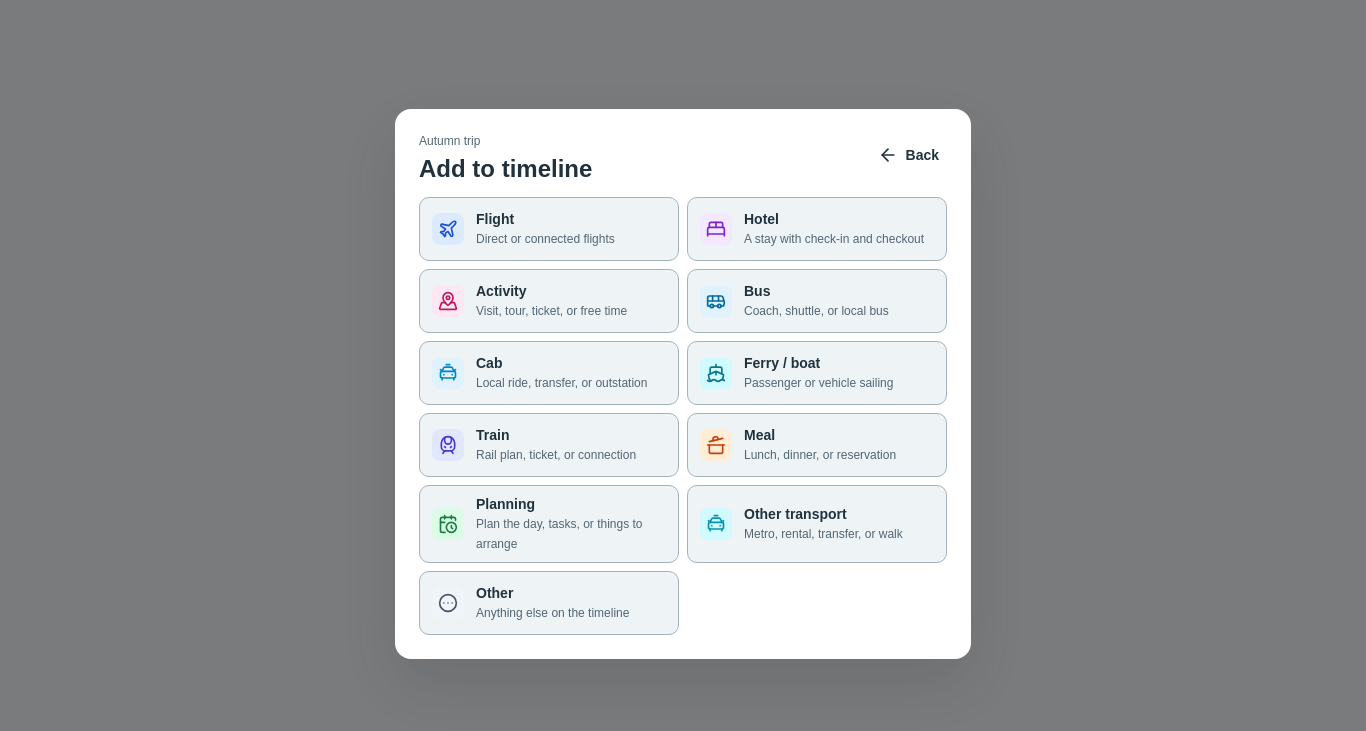
Test: event form architecture › keeps hotel times optional, validates checkout, and saves both milestone time flags
The width and height of the screenshot is (1366, 731).
Click the button "Hotel A stay with check-in and checkout" at (817, 229), box [687, 197, 947, 261]
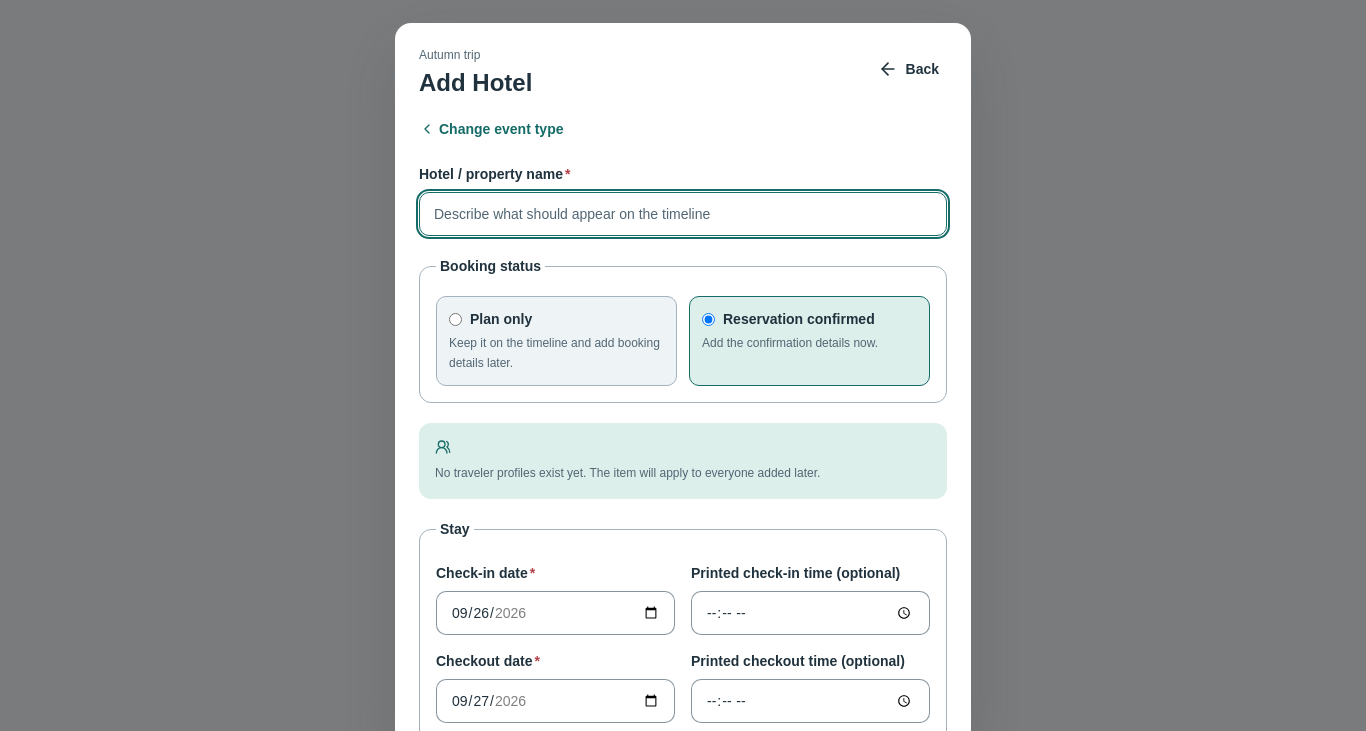
Expected: the date field labelled "Check-in date" holds "2026-09-26", [436, 591, 675, 635]
Expected: the date field labelled "Checkout date" holds "2026-09-27", [436, 679, 675, 723]
Expected: the time field labelled "Printed check-in time (optional)" is empty, [691, 591, 930, 635]
Type "Marina hotel" into the field labelled "Hotel / property name" at (683, 214), box [419, 192, 947, 236]
Type "2026-09-26" into the date field labelled "Checkout date" at (556, 701), box [436, 679, 675, 723]
(page scrolled)
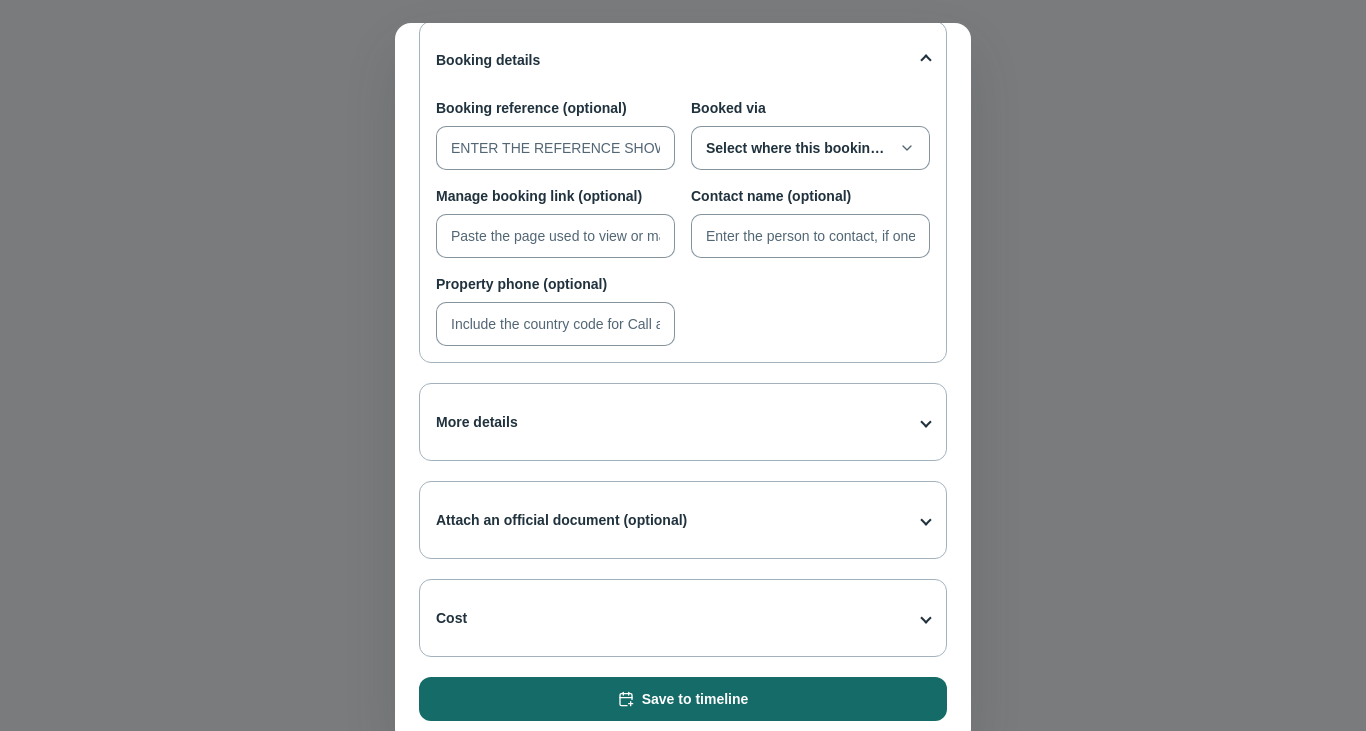
Click the button "Save to timeline" at (683, 699), box [419, 677, 947, 721]
(page scrolled)
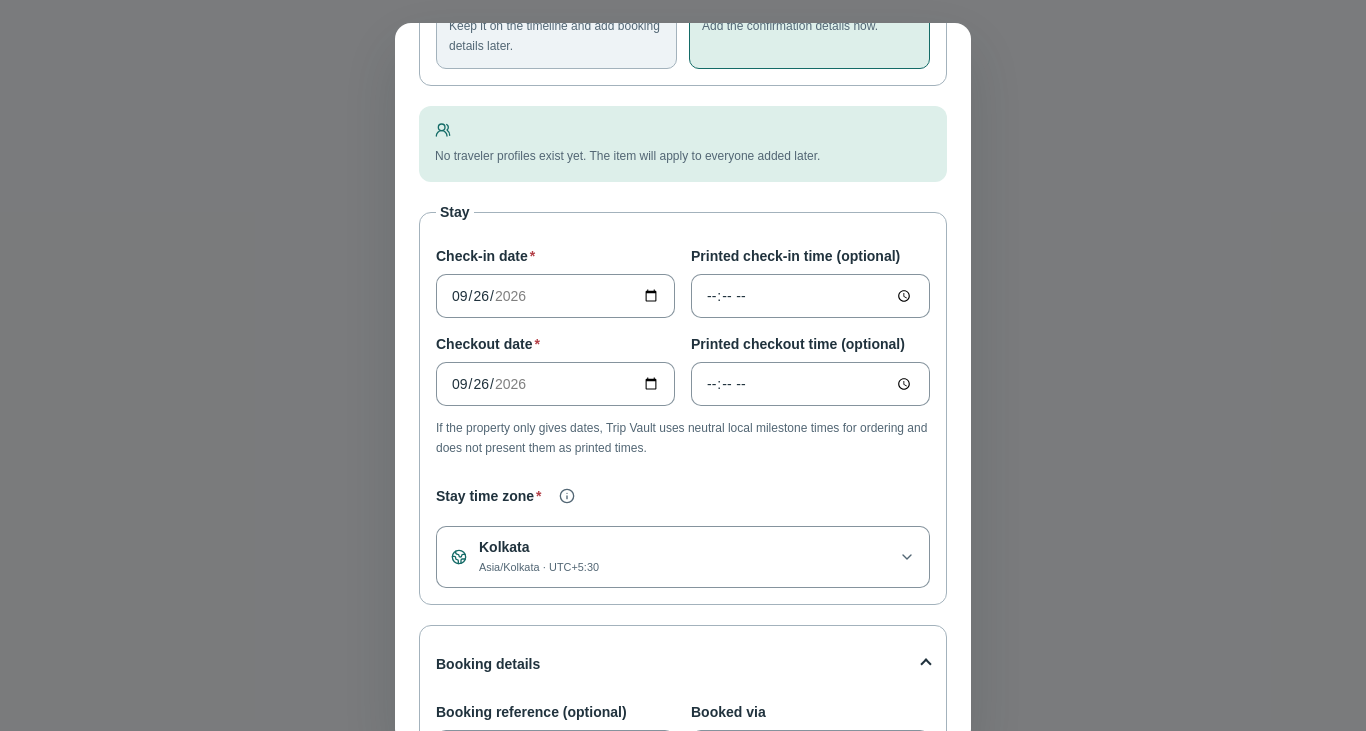
Type "2026-09-27" into the date field labelled "Checkout date" at (556, 384), box [436, 362, 675, 406]
Type "15:00" into the time field labelled "Printed check-in time (optional)" at (810, 296), box [691, 274, 930, 318]
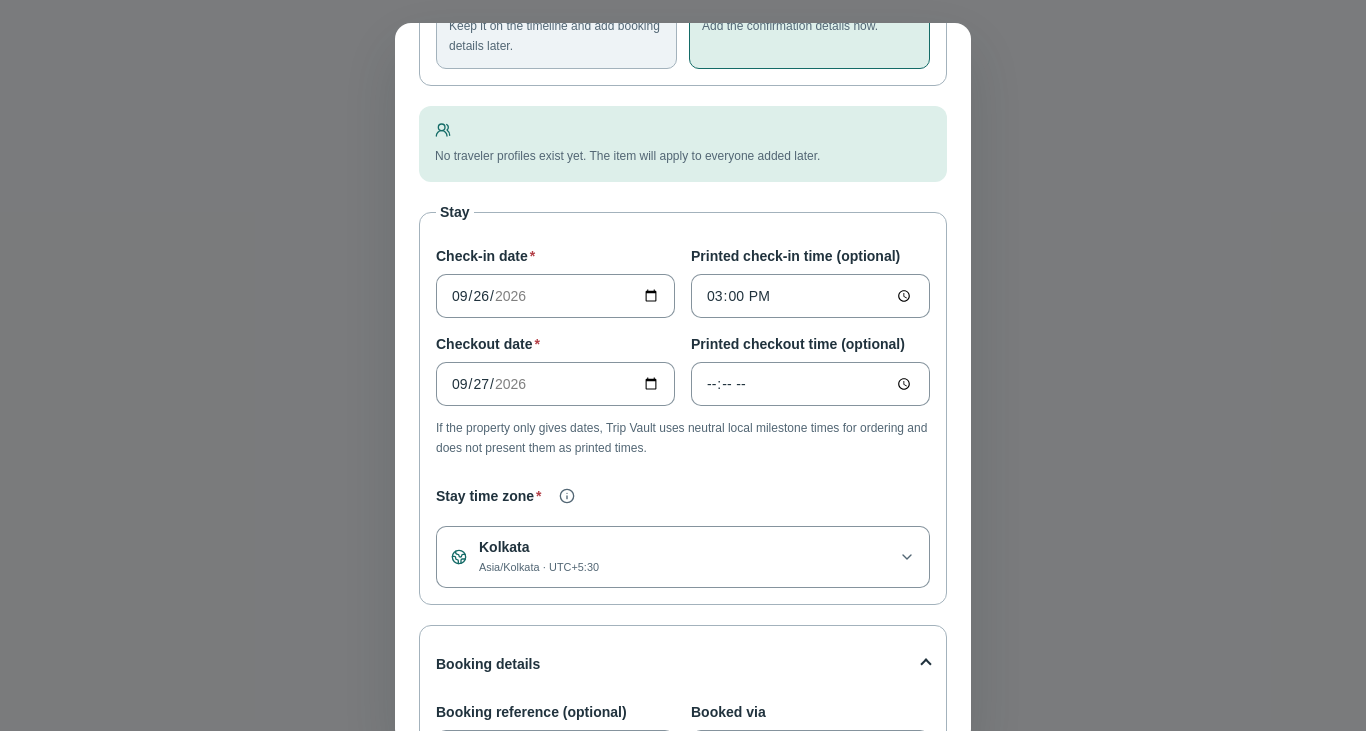
Type "11:00" into the time field labelled "Printed checkout time (optional)" at (810, 384), box [691, 362, 930, 406]
(page scrolled)
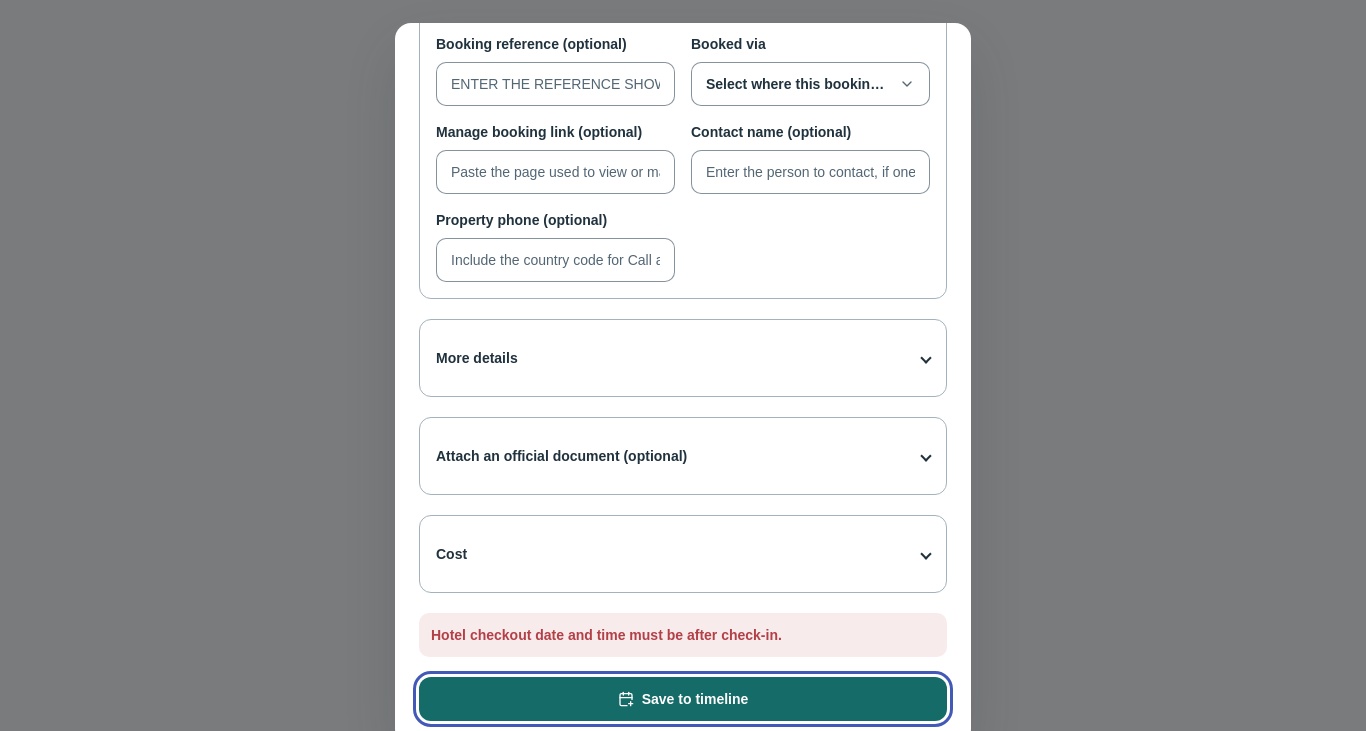
Click the button "Save to timeline" at (683, 699), box [419, 677, 947, 721]
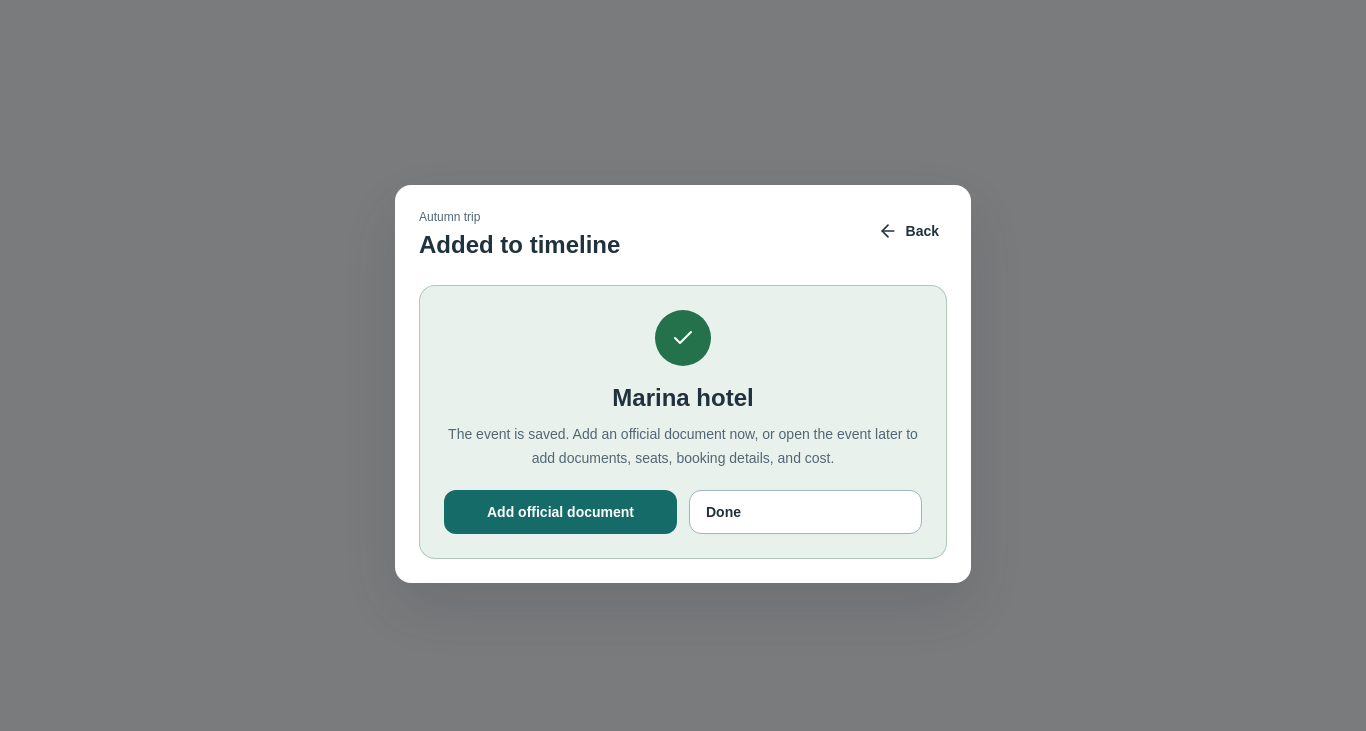
Expected: the heading "Marina hotel" is shown, [612, 384, 754, 411]
